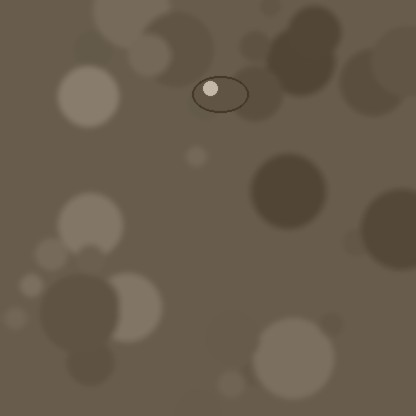gota: (192, 77, 248, 115)
